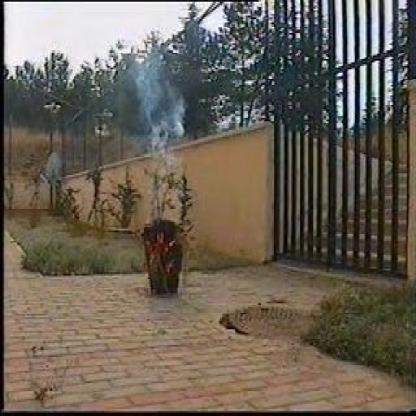-: (134, 30, 188, 145)
